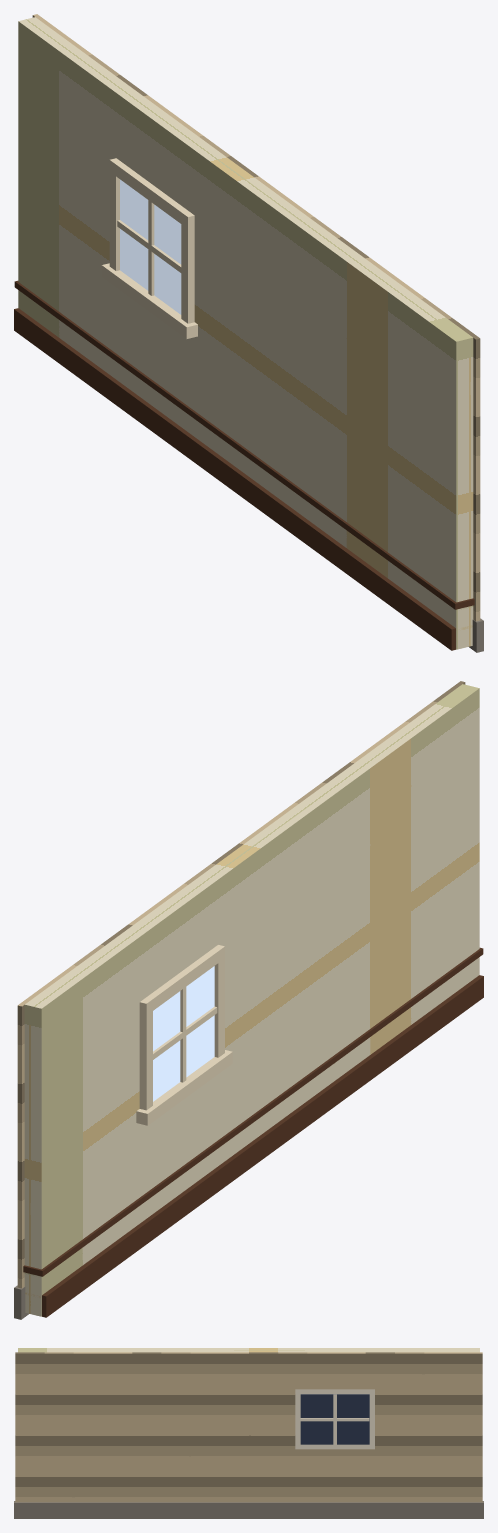
Rendered from kit_east.glb.
3 renders of one model, top to bottom at view 1: azimuth 30°, elevation 25°; view 2: azimuth 150°, elevation 25°; view 3: azimuth 270°, elevation 25°, orthographic. The views are drawn at different scales.
Visible parts, largest first — view 1: Box1, Box2, Box16, Box7, Box14, Box17, Box4, Box3, Box5, Box6; view 2: Box1, Box2, Box7, Box14, Box17, Box16, Box4, Box3, Box6, Box5; view 3: Box14, Box15, Box11, Box1, Box10, Box13, Box12.
Part boxes in pixels (left/top/right/bottom): Box1: left=18, top=17, right=473, bottom=649; Box2: left=14, top=308, right=455, bottom=650; Box16: left=19, top=294, right=473, bottom=649; Box7: left=120, top=179, right=181, bottom=314; Box14: left=32, top=14, right=480, bottom=621; Box17: left=14, top=280, right=474, bottom=609; Box4: left=101, top=263, right=197, bottom=338; Box3: left=109, top=158, right=194, bottom=228; Box5: left=181, top=224, right=194, bottom=323; Box6: left=109, top=172, right=119, bottom=270; Box1: left=24, top=684, right=479, bottom=1316; Box2: left=42, top=975, right=483, bottom=1317; Box7: left=153, top=966, right=214, bottom=1101; Box14: left=17, top=681, right=465, bottom=1288; Box17: left=23, top=947, right=483, bottom=1276; Box16: left=24, top=958, right=479, bottom=1315; Box4: left=136, top=1050, right=232, bottom=1125; Box3: left=139, top=945, right=224, bottom=1015; Box6: left=139, top=1011, right=152, bottom=1110; Box5: left=214, top=958, right=224, bottom=1057; Box14: left=15, top=1352, right=482, bottom=1502; Box15: left=14, top=1501, right=483, bottom=1518; Box11: left=300, top=1394, right=369, bottom=1444; Box1: left=18, top=1348, right=479, bottom=1352; Box10: left=295, top=1389, right=374, bottom=1449; Box13: left=300, top=1418, right=369, bottom=1421; Box12: left=333, top=1394, right=336, bottom=1444.
Bounding box in the file's own units: 0.31 × 2.64 × 6.82.
Materials: 8 (2 with a texture image).
